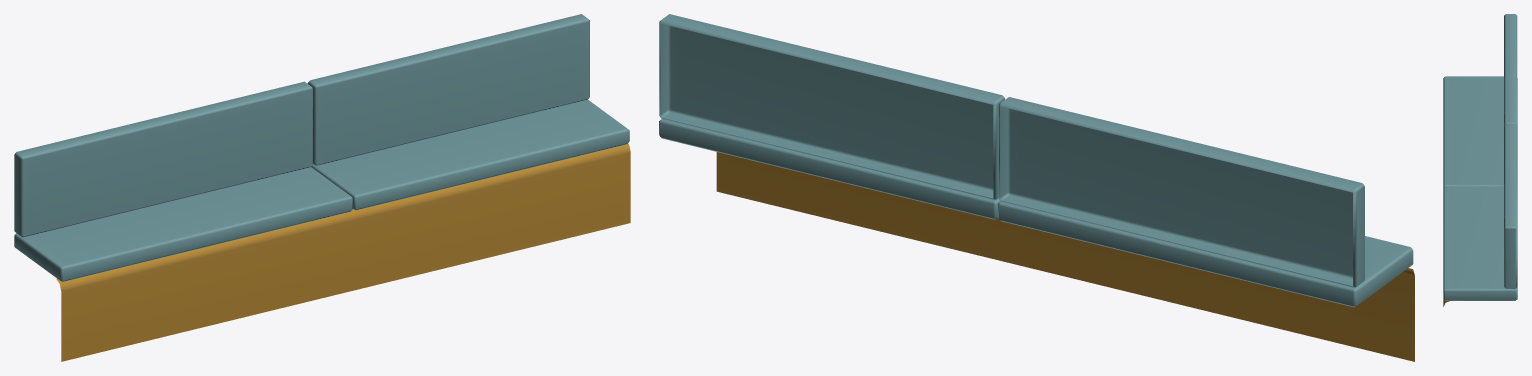
Rendered from Sofa.fbx.
The picture shows the model from 3 angles, left to right: view 1: azimuth 30°, elevation 25°; view 2: azimuth 150°, elevation 25°; view 3: azimuth 270°, elevation 25°; orthographic projection. The views are drawn at different scales.
Parts seen in each view (by area): view 1: Sofa; view 2: Sofa; view 3: Sofa.
Part boxes in pixels (bbox=[...]): Sofa: bbox=[14, 14, 630, 361]; Sofa: bbox=[659, 14, 1414, 361]; Sofa: bbox=[1443, 14, 1517, 306].
Size of the model in its own units: 335 by 98.48 by 49.22.
1 material, 1 textured.
